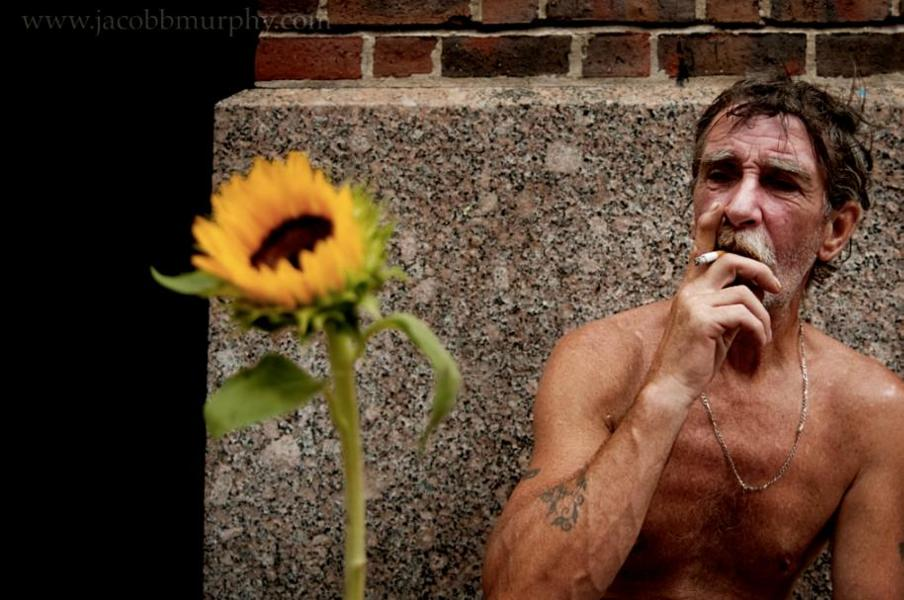person: (480, 80, 904, 600)
